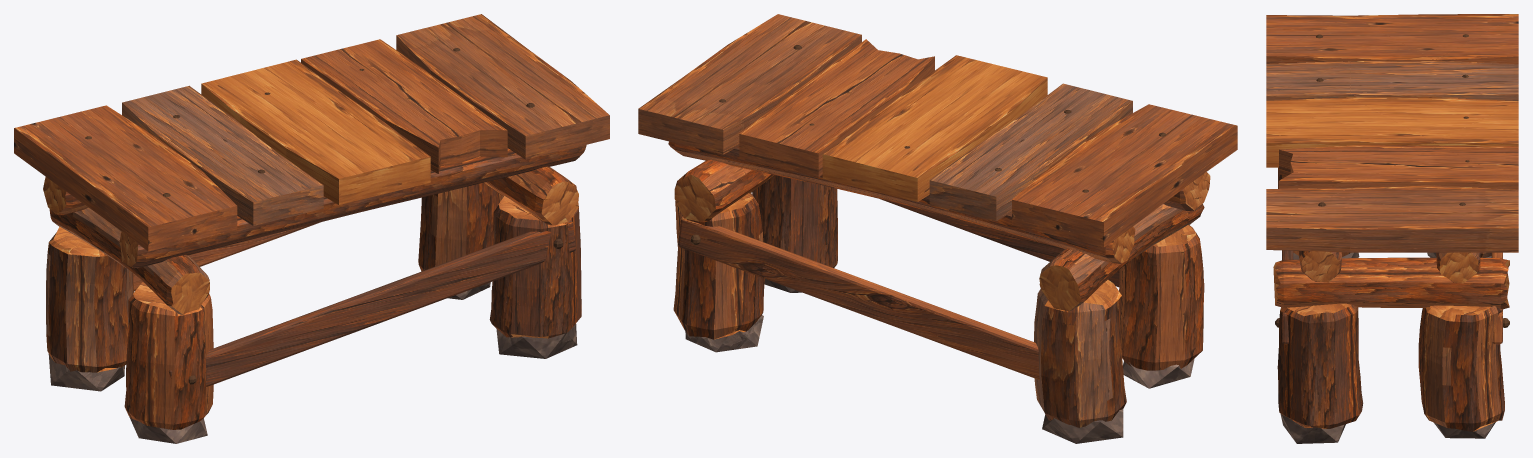
Rendered from foundation_half__plank_root.glb.
The picture shows the model from 3 angles, left to right: view 1: azimuth 30°, elevation 25°; view 2: azimuth 150°, elevation 25°; view 3: azimuth 270°, elevation 25°; orthographic projection. The views are drawn at different scales.
Parts seen in each view (by area): view 1: model; view 2: model; view 3: model.
Part boxes in pixels (<box>): model: <box>14,14,609,443</box>; model: <box>638,14,1237,443</box>; model: <box>1266,14,1518,443</box>.
Size of the model in its own units: 1.99 by 0.9933 by 0.988.
Materials: 22 (22 with a texture image).
